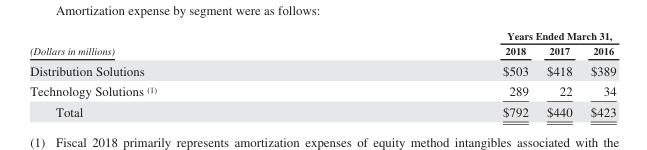table: (29, 29, 615, 118)
table column: (29, 29, 329, 118), (329, 29, 536, 118), (536, 29, 580, 118), (580, 29, 615, 118)
table column header: (29, 29, 615, 59)
table row: (29, 59, 615, 80), (29, 80, 615, 101), (29, 42, 615, 59), (29, 101, 615, 118), (29, 29, 615, 42)
table spanning cell: (29, 29, 329, 59), (329, 29, 615, 42)
